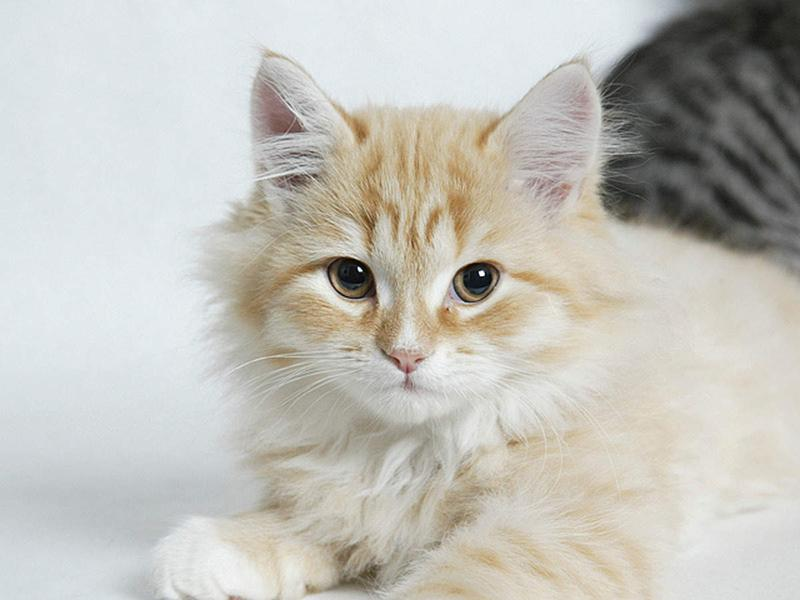cat: (150, 43, 798, 599)
